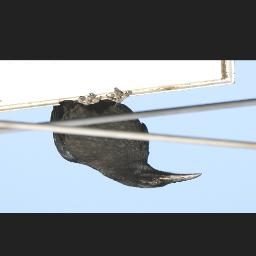Crow: (47, 88, 204, 189)
